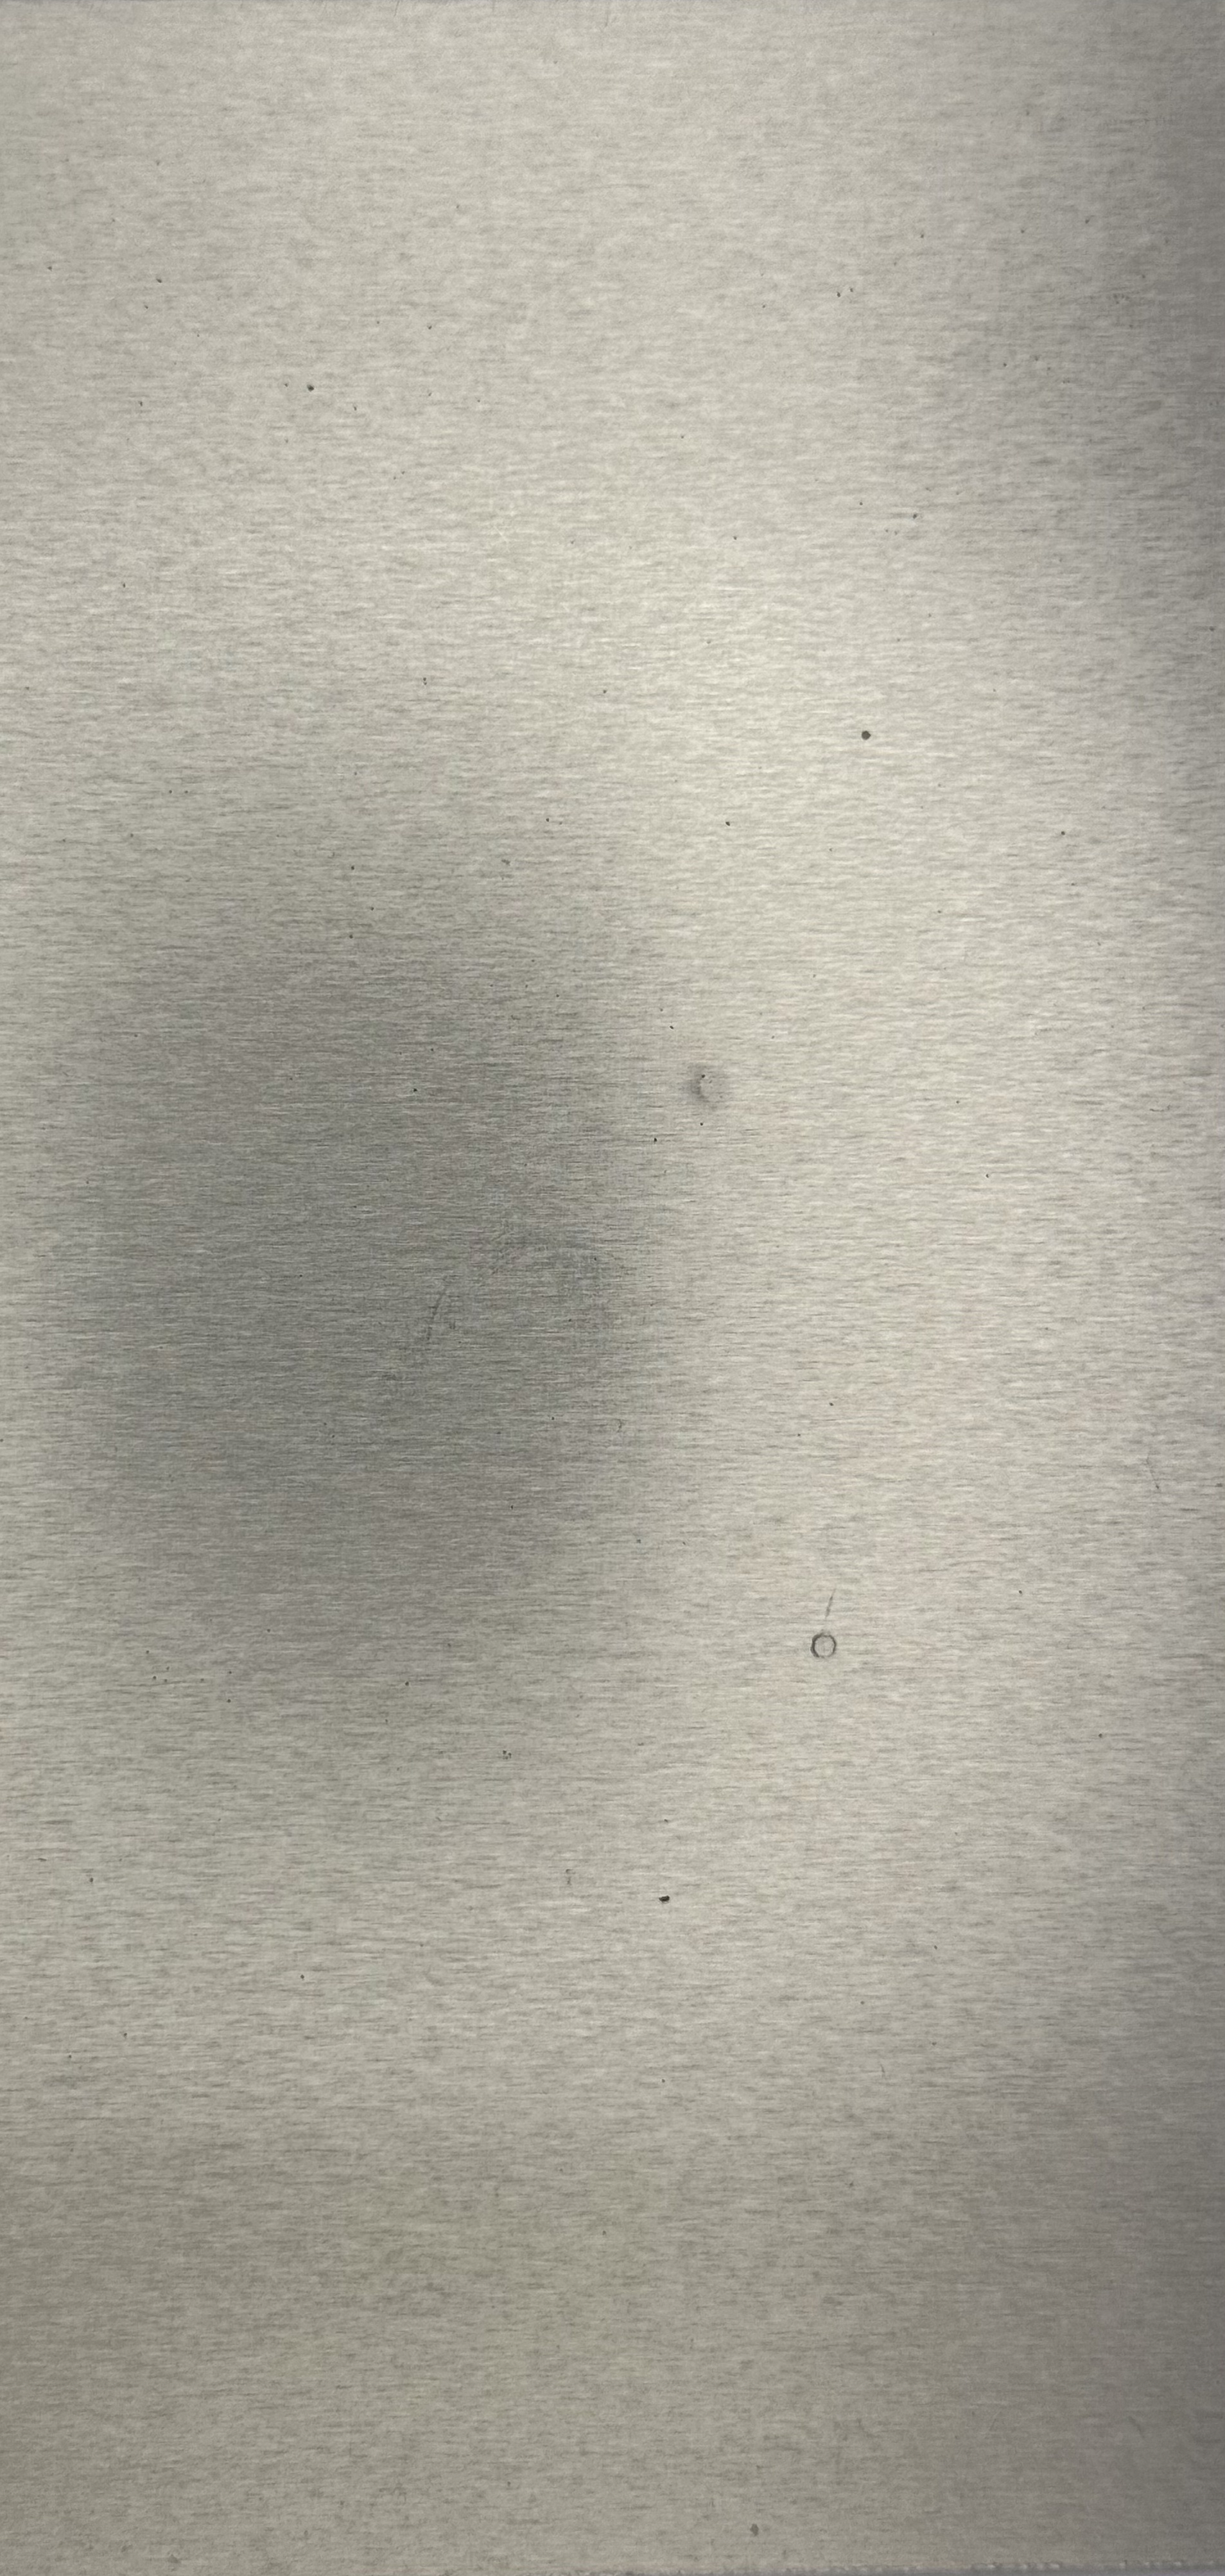Delle: (668, 1051, 750, 1135), (801, 1618, 856, 1677)
